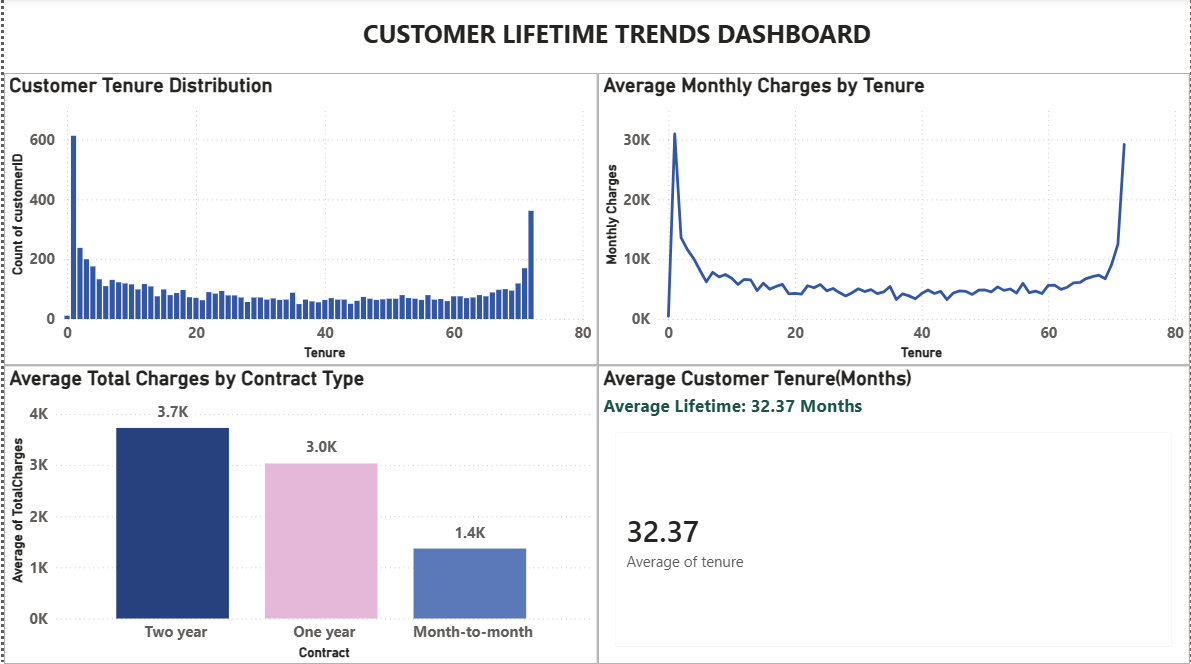

This screenshot's page, from the dashboard's own definition file:
{"tool":"powerbi","page":{"name":"Page 3","canvas":[1280,720],"ordinal":2},"visuals":[{"type":"lineClusteredColumnComboChart","title":"Customer Tenure Distribution","fields":{"Category":["Telco-Customer-Churn.tenure"],"Y":["CountNonNull(Telco-Customer-Churn.customerID)"]},"box":[0,81.3,640.6,315.6],"z":0},{"type":"lineChart","title":"Average  Monthly Charges by Tenure","fields":{"Category":["Telco-Customer-Churn.tenure"],"Y":["Sum(Telco-Customer-Churn.MonthlyCharges)"]},"box":[640.6,81.3,638.7,315.6],"z":1},{"type":"lineClusteredColumnComboChart","title":"Average Total Charges by Contract Type","fields":{"Category":["Telco-Customer-Churn.Contract"],"Y":["Avg(Telco-Customer-Churn.TotalCharges)"]},"box":[0,396.9,640.6,323.2],"z":2},{"type":"cardVisual","title":"Average Customer Tenure(Months)","fields":{"Data":["Avg(Telco-Customer-Churn.tenure)"]},"box":[640.6,396.9,638.7,323.2],"z":3},{"type":"textbox","box":[0,15.1,1279.4,66.1],"z":4}]}

Visuals, with their boxes in screenshot pixels (x1, y1, x2, y2), scaled from the page's 1280x720 canvas onto the 1191x664 screenshot:
"Customer Tenure Distribution" lineClusteredColumnComboChart: <region>0, 75, 596, 366</region>
"Average  Monthly Charges by Tenure" lineChart: <region>596, 75, 1190, 366</region>
"Average Total Charges by Contract Type" lineClusteredColumnComboChart: <region>0, 366, 596, 663</region>
"Average Customer Tenure(Months)" cardVisual: <region>596, 366, 1190, 663</region>
textbox: <region>0, 14, 1190, 75</region>
